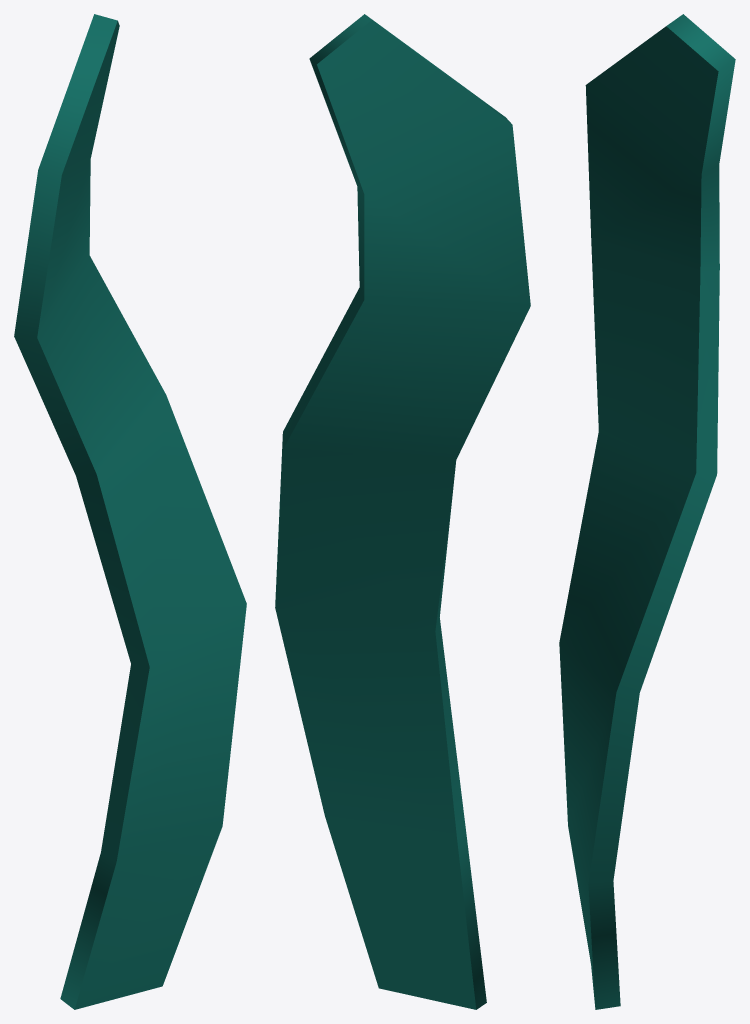
The model's file is Sea_plant_5_2.002.fbx.
The picture shows the model from 3 angles, left to right: view 1: azimuth 30°, elevation 25°; view 2: azimuth 150°, elevation 25°; view 3: azimuth 270°, elevation 25°; orthographic projection. The views are drawn at different scales.
Visible parts, largest first — view 1: Sea_plant_5_2.002; view 2: Sea_plant_5_2.002; view 3: Sea_plant_5_2.002.
Part boxes in pixels (x1,y1,x2,y2): Sea_plant_5_2.002: (14,14,246,1009); Sea_plant_5_2.002: (275,14,530,1009); Sea_plant_5_2.002: (559,14,735,1009).
Size of the model in its own units: 0.3314 by 1.27 by 0.2071.
